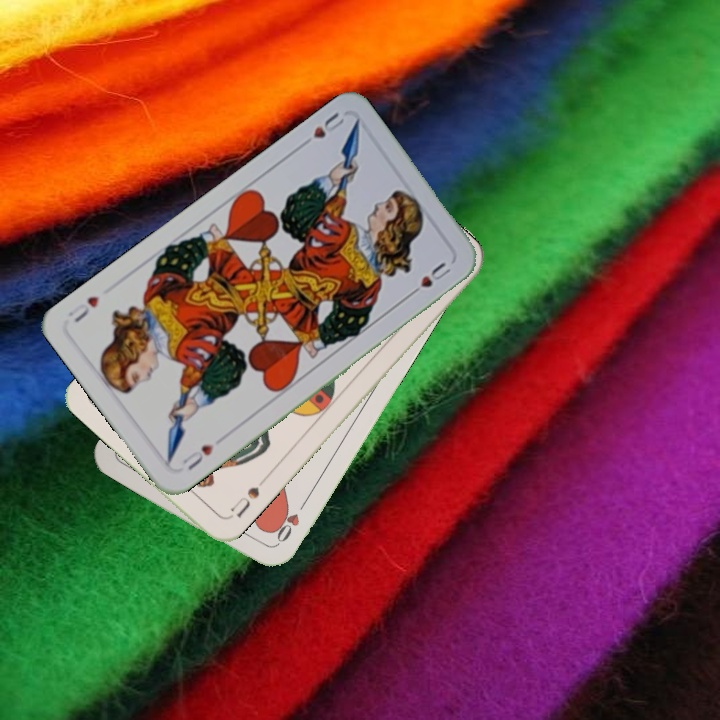HO: (268, 496, 310, 549)
HU: (295, 107, 347, 148), (178, 440, 216, 473)
SU: (223, 474, 269, 522)
